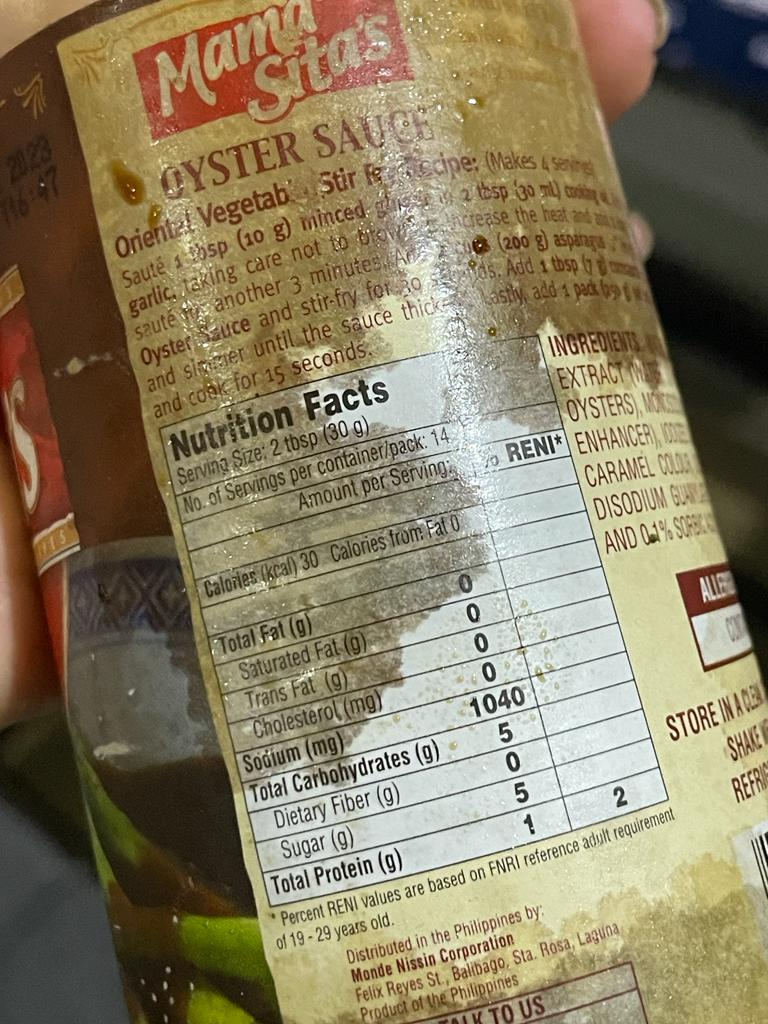table: (157, 342, 677, 918)
